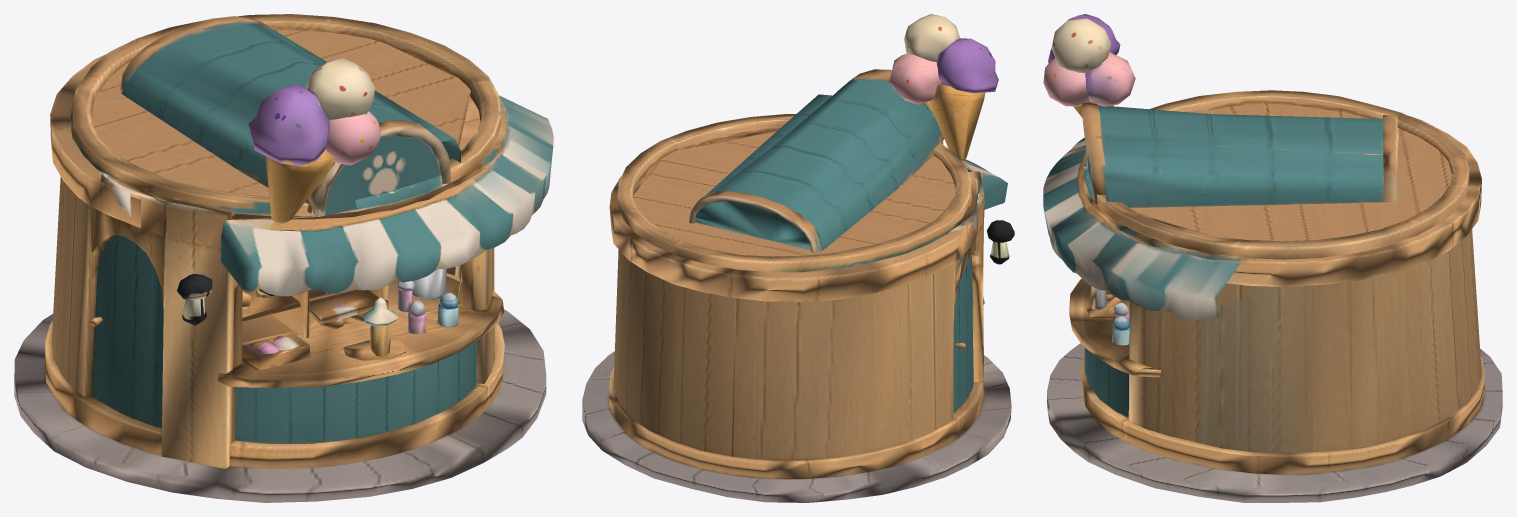
File: park-icecream-kiosk.glb
3 views of the same model, side by side, from view 1: azimuth 30°, elevation 25°; view 2: azimuth 150°, elevation 25°; view 3: azimuth 270°, elevation 25° (orthographic). The views are drawn at different scales.
Parts seen in each view (by area): view 1: Mesh_0; view 2: Mesh_0; view 3: Mesh_0.
Boxes of the visible parts, x1,y1,x2,y2 form: Mesh_0: (14,14,553,502); Mesh_0: (582,14,1014,502); Mesh_0: (1043,14,1502,502).
Bounding box in the file's own units: 3.44 × 3 × 3.44.
1 material, 1 textured.
